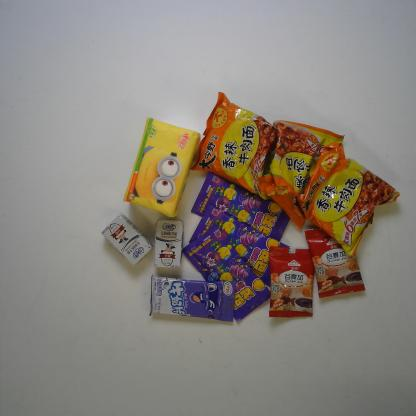Candy: (190, 204, 292, 292), (183, 224, 271, 324), (187, 168, 299, 246), (149, 274, 236, 323)
Instant Drink: (303, 222, 368, 300), (267, 246, 315, 318)
Instant Noodles: (294, 138, 402, 260), (253, 118, 348, 230), (188, 91, 288, 196)
Milk: (100, 212, 155, 268), (154, 218, 184, 268)
Tissue: (121, 117, 202, 218)
